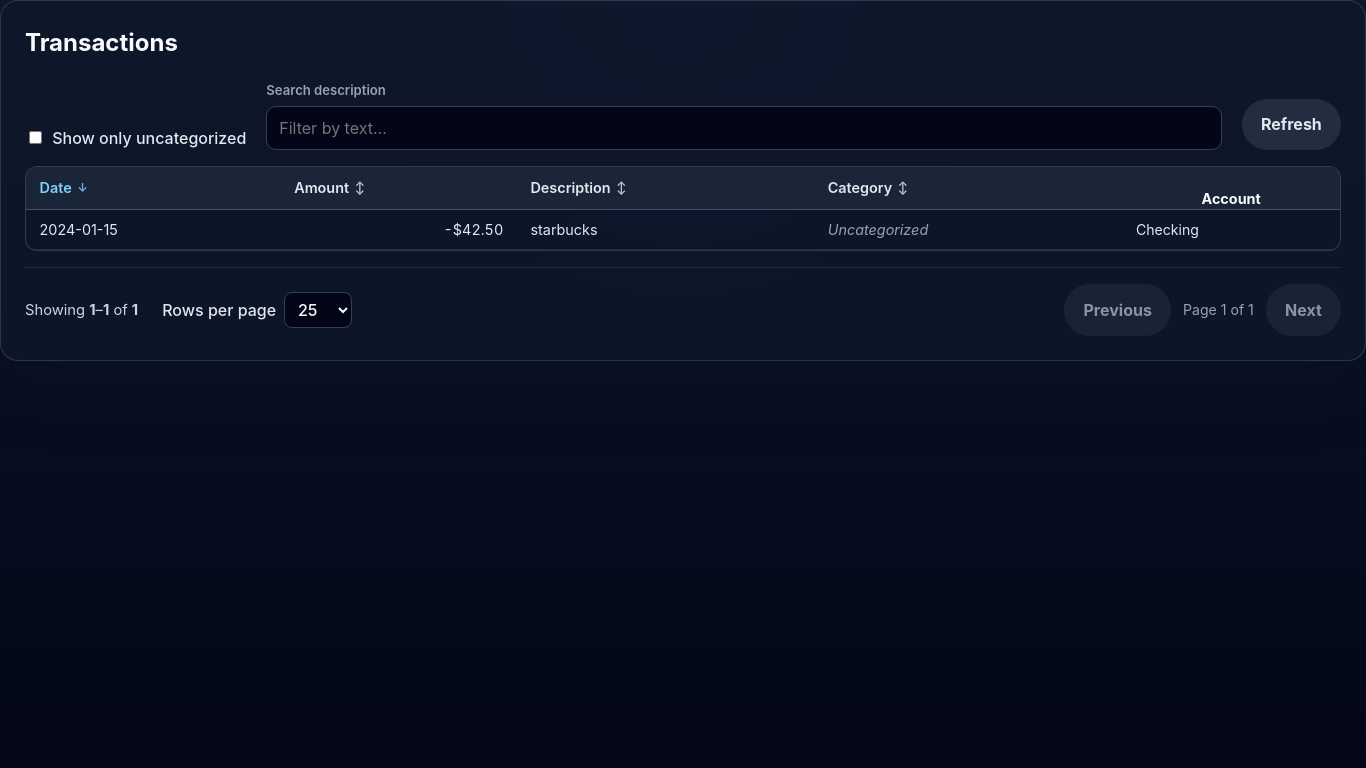
Scenario: TransactionsPage › previews a rule and shows the affected-transaction count
Click the text "starbucks".
click(564, 229)  # box [517,210,814,250]
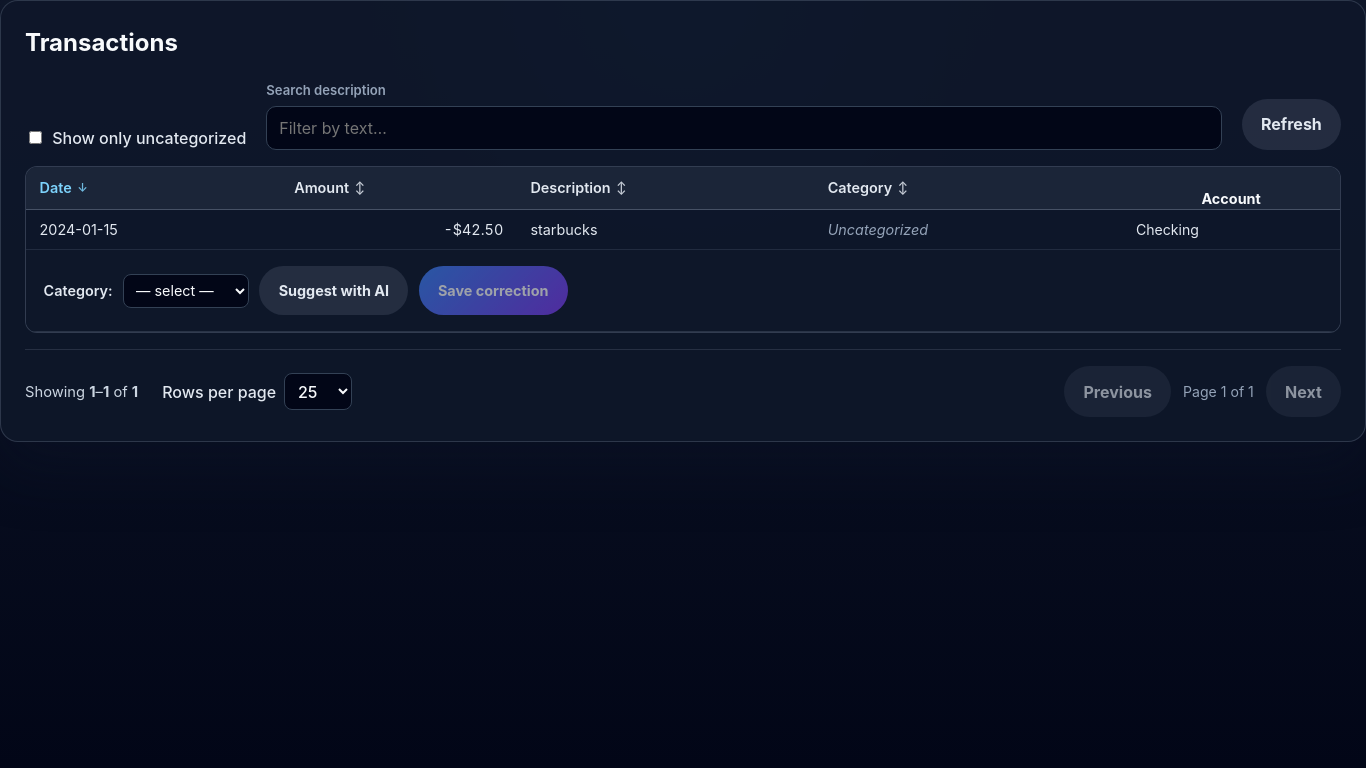
Select "Food & Drink" in the dropdown labelled "Category:" at point(186, 291), box [123,274,249,308]
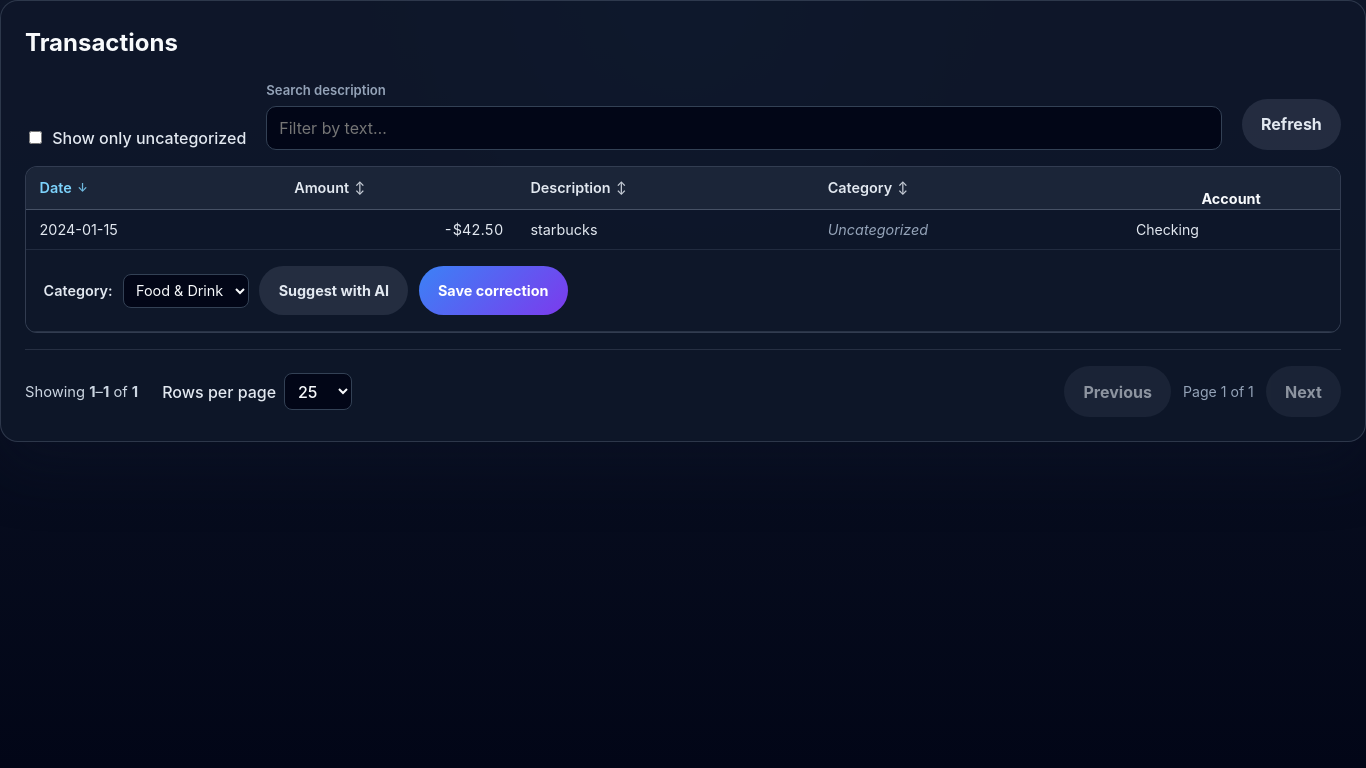
Click the button "Save correction".
click(493, 291)  # box [419,266,568,315]
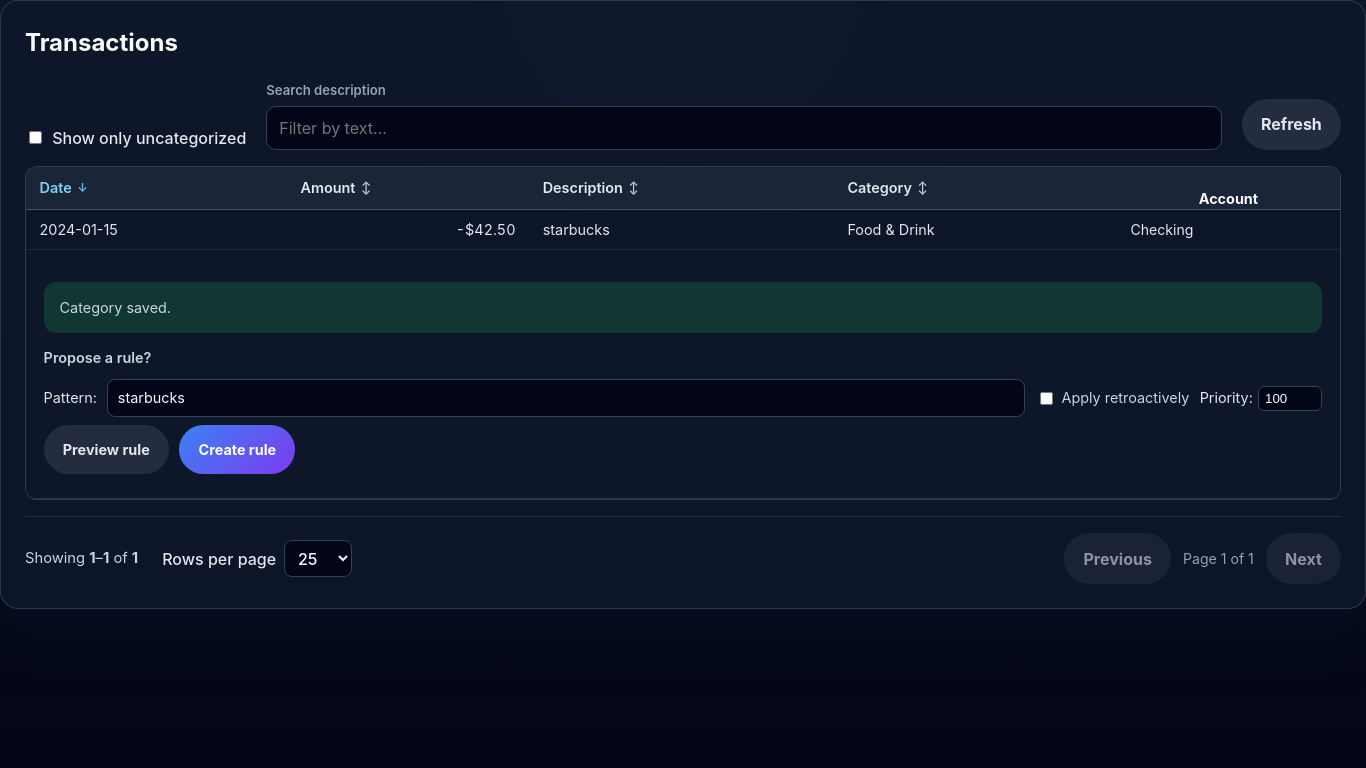
Expected: the text "Propose a rule?" is shown, [44,349,151,366]
Click the button "Preview rule".
click(106, 450)  # box [44,425,169,474]
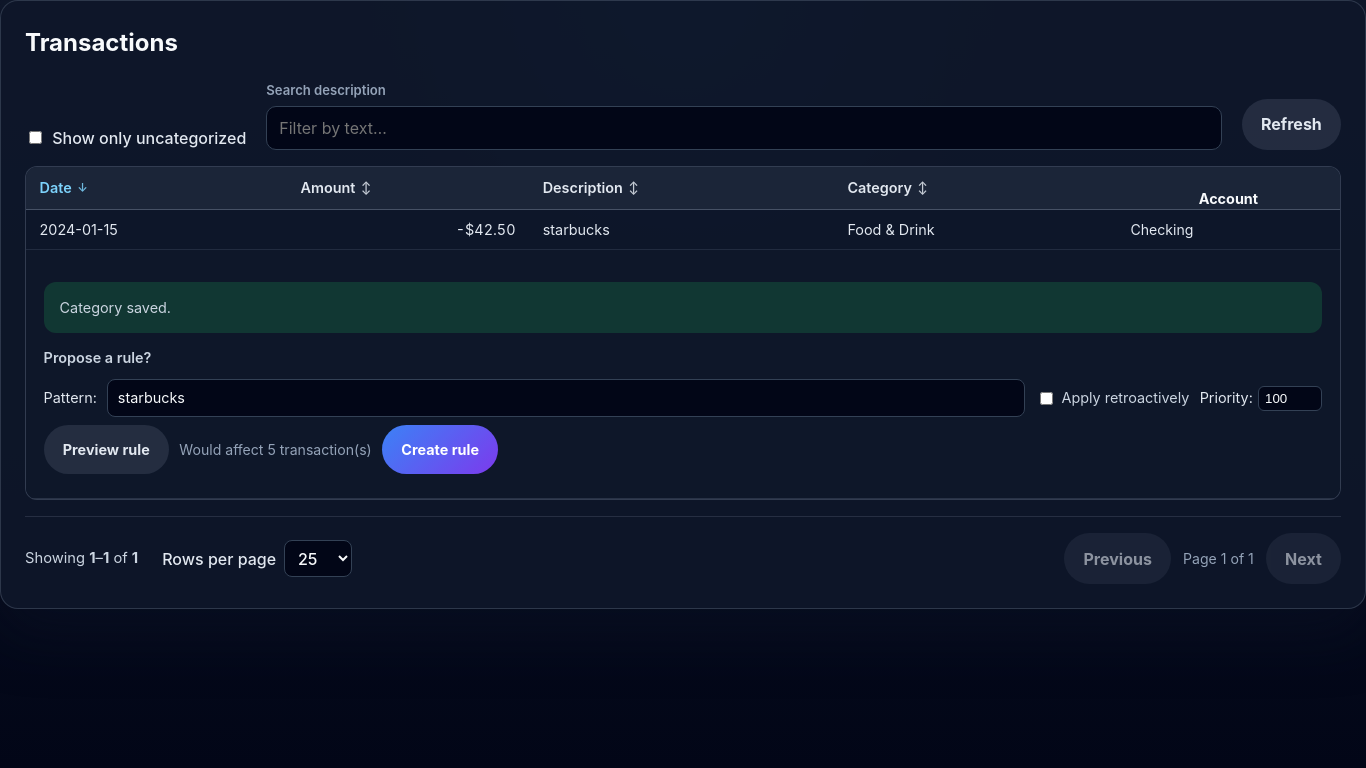
Expected: the text "Would affect 5 transaction(s)" is shown, [179,439,372,460]
